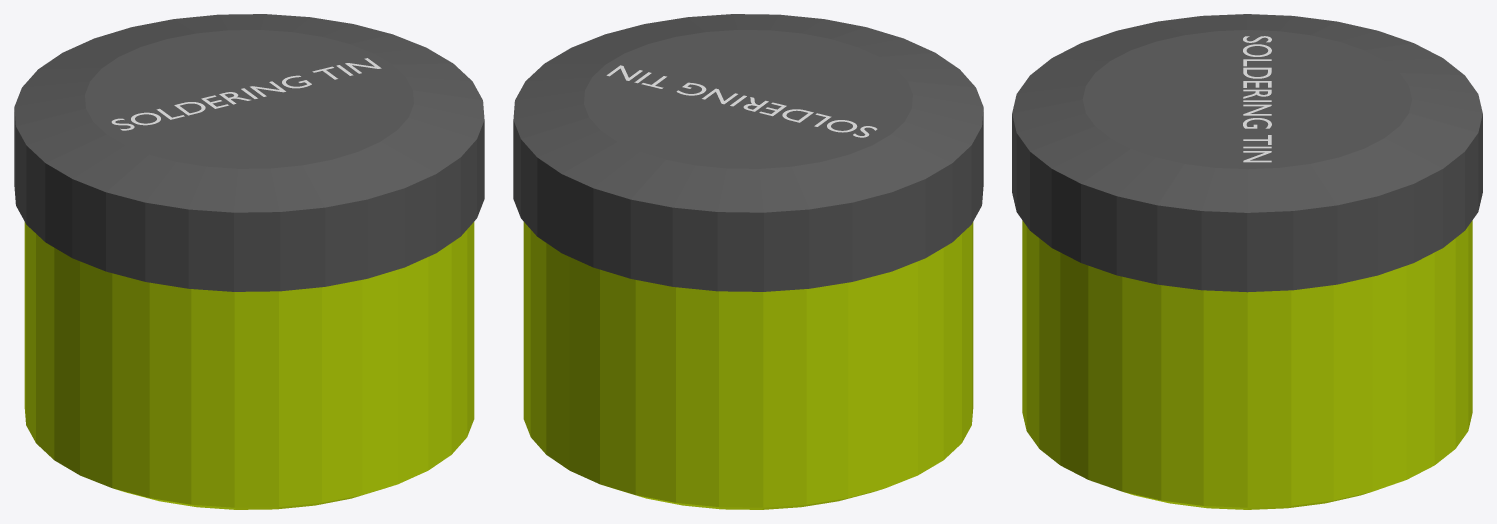
The model's file is SOLDERING_TIN.glb.
The picture shows the model from 3 angles, left to right: view 1: azimuth 30°, elevation 25°; view 2: azimuth 150°, elevation 25°; view 3: azimuth 270°, elevation 25°; orthographic projection.
Parts seen in each view (by area): view 1: LID, JAR, Text; view 2: LID, JAR, Text; view 3: LID, JAR, Text.
Boxes of the visible parts, left/top/right/bottom form: LID: left=14, top=14, right=484, bottom=291; JAR: left=24, top=222, right=474, bottom=509; Text: left=111, top=58, right=381, bottom=130; LID: left=513, top=14, right=983, bottom=291; JAR: left=523, top=222, right=973, bottom=509; Text: left=606, top=65, right=877, bottom=137; LID: left=1012, top=14, right=1482, bottom=292; JAR: left=1022, top=220, right=1472, bottom=509; Text: left=1243, top=36, right=1271, bottom=162.
Size of the model in its own units: 0.1902 by 0.145 by 0.1902.
